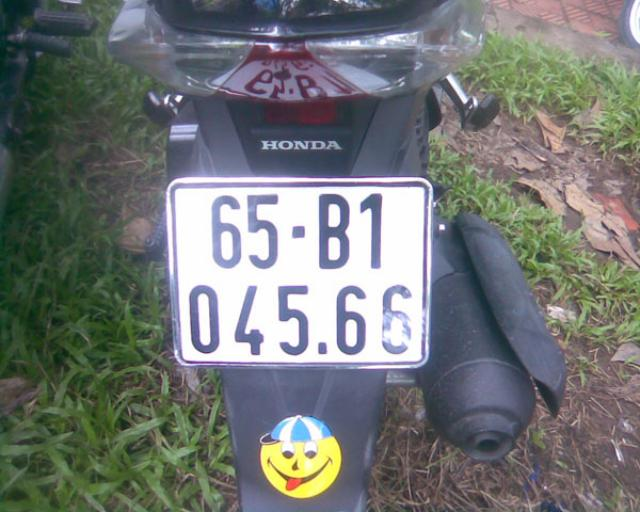plate: (168, 180, 426, 366)
